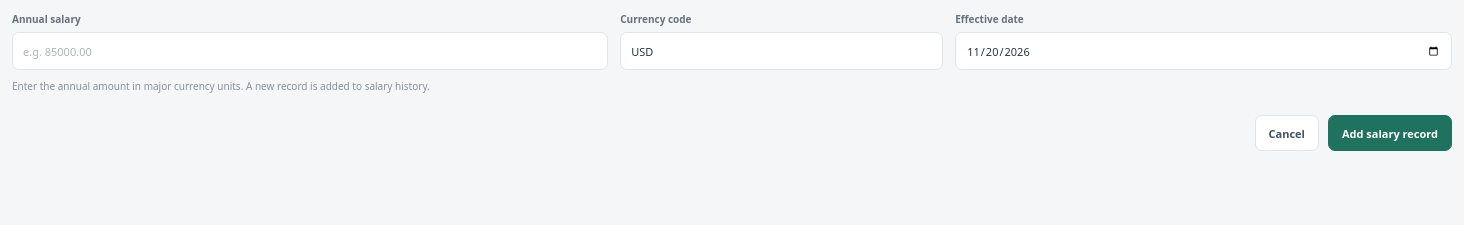
Test: employee and salary forms › rejects amounts with too many currency decimal places before submitting
Type "120.345" into the field labelled "Annual salary" at [310, 51], box 12,32 -> 608,70
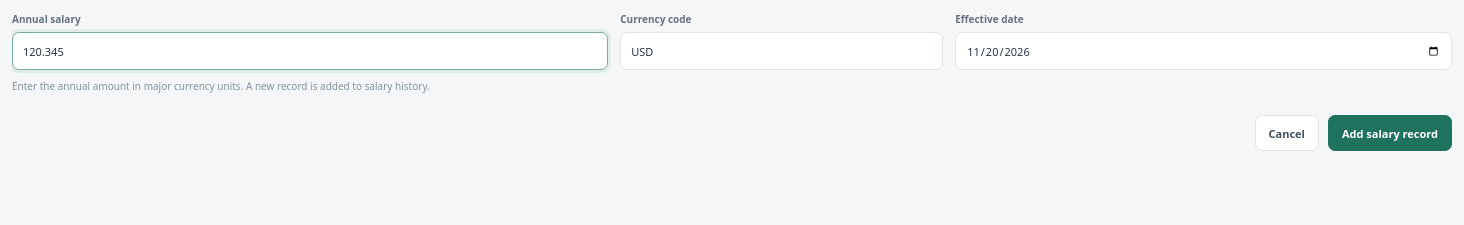
Click the button "Add salary record" at [1390, 133], box 1328,115 -> 1452,151
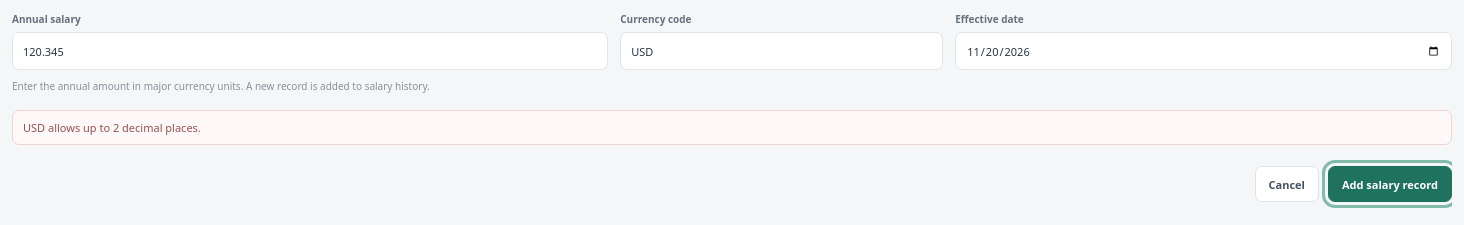
Now the text "USD allows up to 2 decimal places." is shown, box 12,110 -> 1452,145
